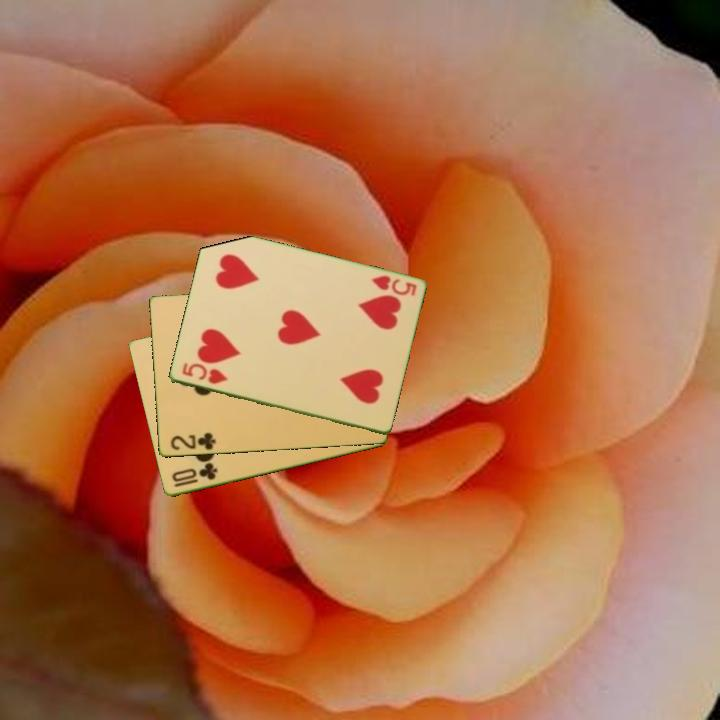10c: (168, 460, 220, 491)
2c: (167, 429, 218, 453)
5h: (178, 360, 230, 387), (368, 272, 419, 299)
